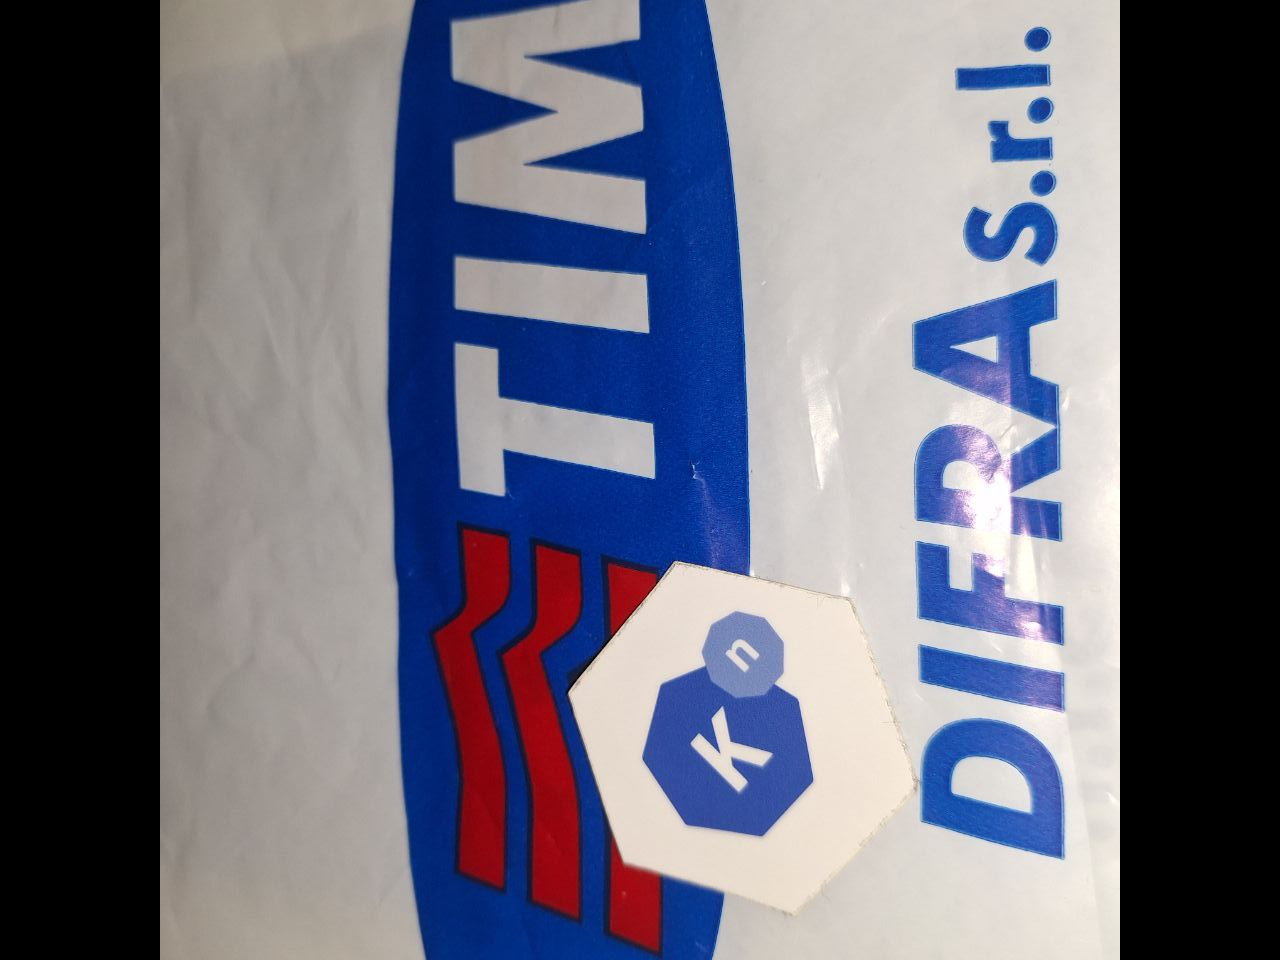knative: (637, 610, 814, 840)
